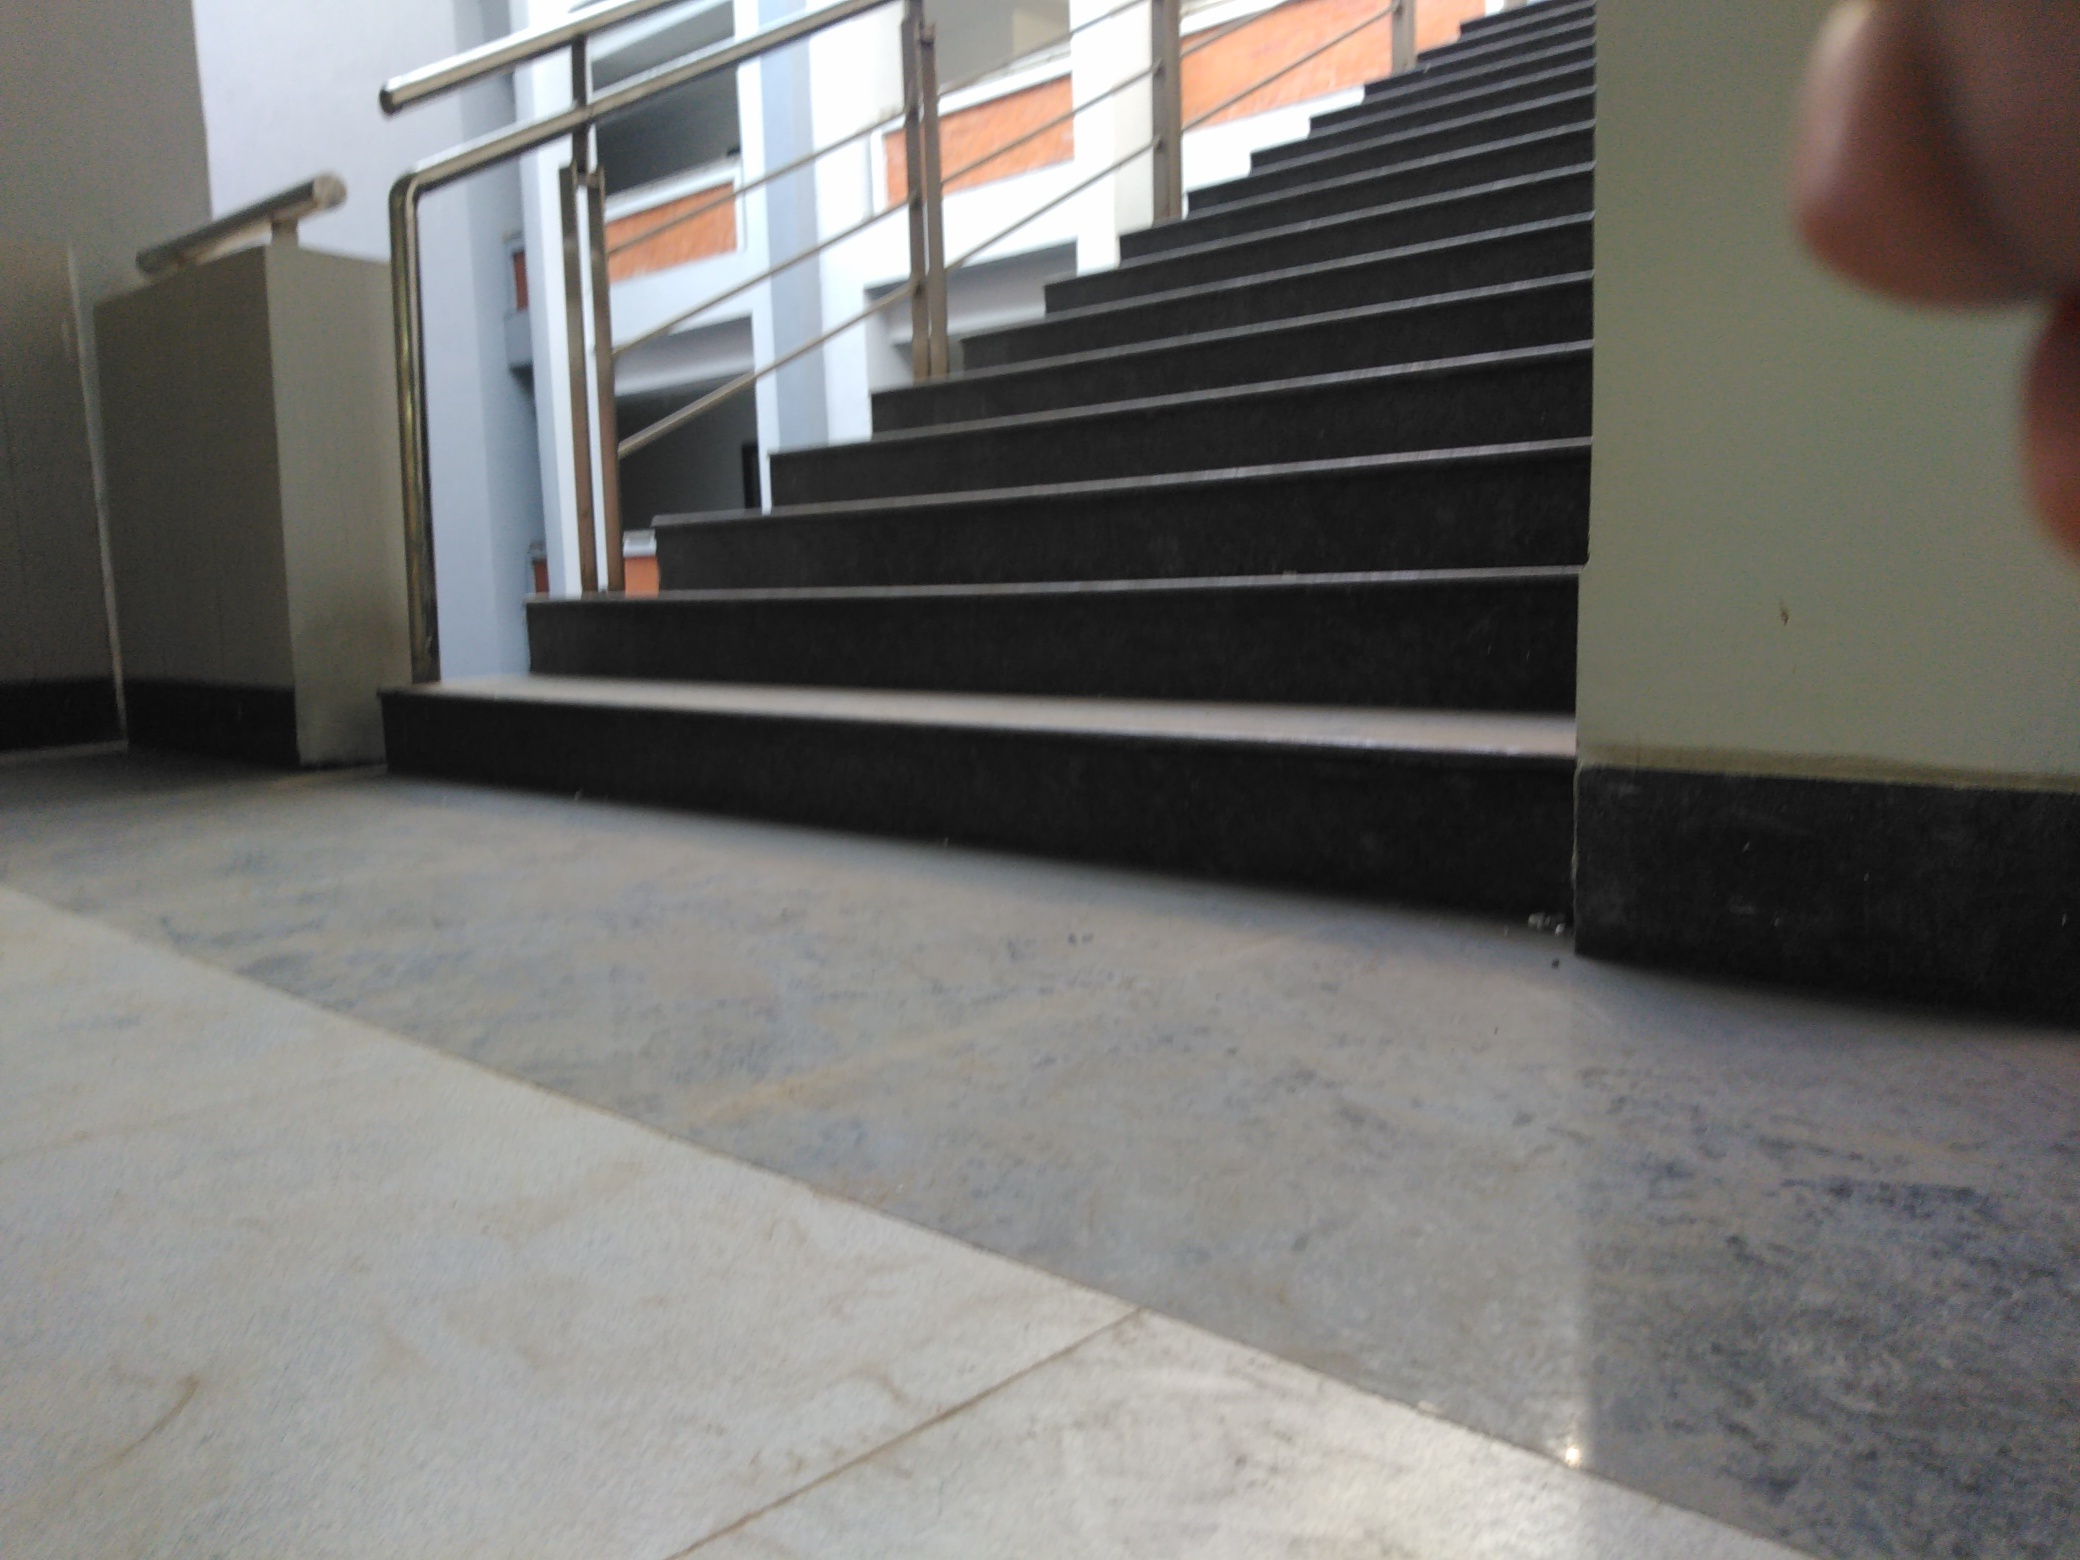stairs_up: (365, 7, 1584, 865)
